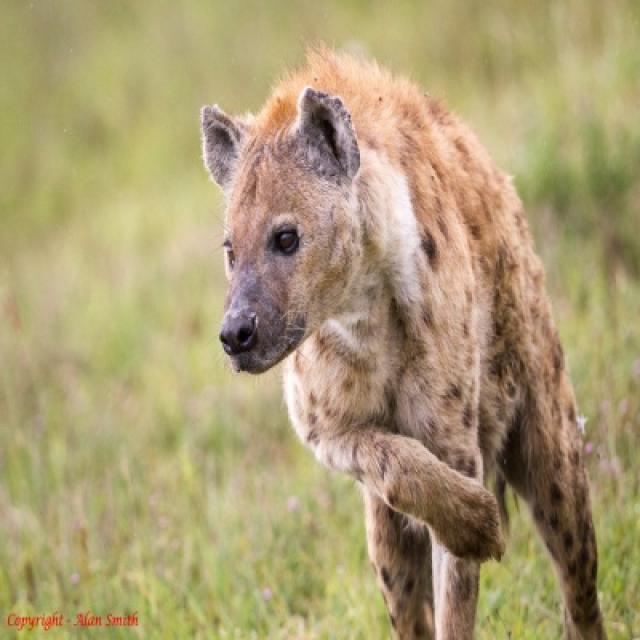hyena: (202, 50, 605, 638)
